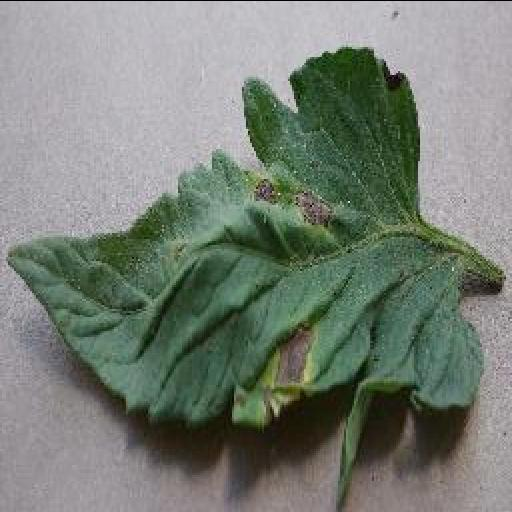disease_tomato: (6, 46, 478, 424)
